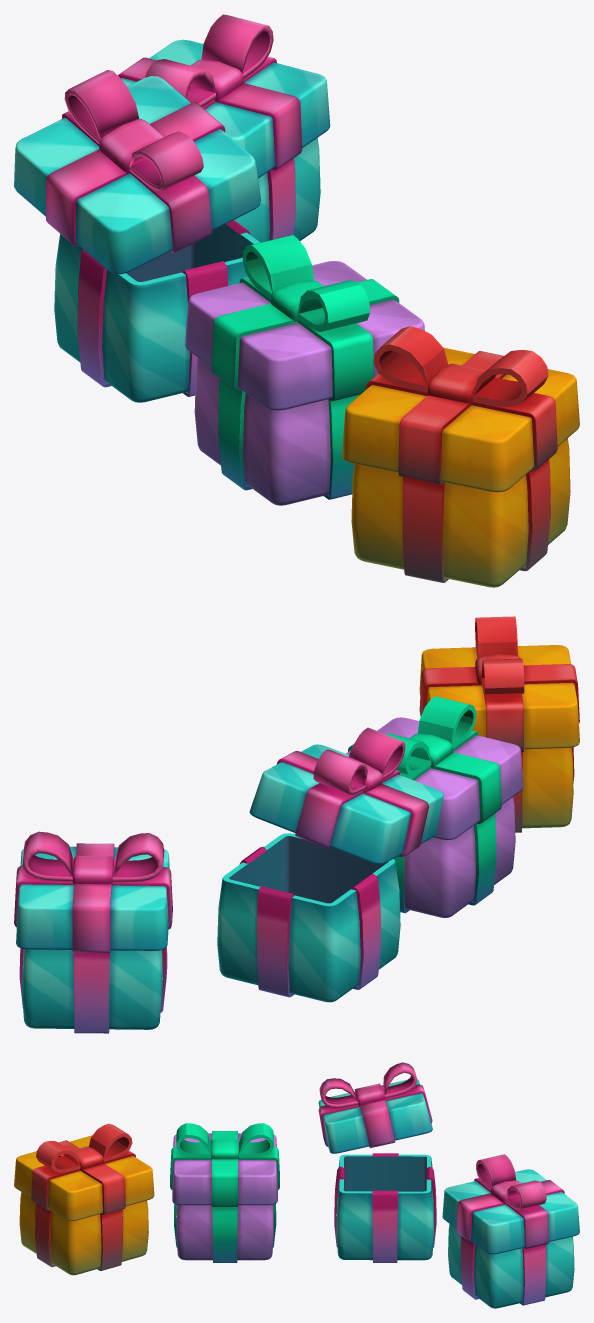
The model's file is gift-boxes.fbx.
3 views of the same model, one above another, from view 1: azimuth 30°, elevation 25°; view 2: azimuth 150°, elevation 25°; view 3: azimuth 270°, elevation 25° (orthographic). The views are drawn at different scales.
Parts seen in each view (by area): view 1: Cube.001, Cube, Cube.007, Cube.018, Cube.021, Cube.020, Cube.019, Cube.017, Cube.006, Cube.025, Cube.024, Cube.030 (+5 smaller); view 2: Cube, Cube.025, Cube.001, Cube.023, Cube.007, Cube.024, Cube.021, Cube.019, Cube.006, Cube.020, Cube.017, Cube.018 (+4 smaller); view 3: Cube, Cube.018, Cube.024, Cube.023, Cube.021, Cube.019, Cube.020, Cube.025, Cube.006, Cube.017, Cube.007, Cube.001 (+6 smaller).
Boxes of the visible parts, box(x1,y1,x2,y2) form: Cube.001: box(14, 76, 260, 274); Cube: box(54, 224, 259, 402); Cube.007: box(46, 70, 225, 253); Cube.018: box(351, 438, 570, 587); Cube.021: box(366, 326, 557, 484); Cube.020: box(211, 235, 399, 401); Cube.019: box(342, 347, 579, 492); Cube.017: box(185, 261, 424, 410); Cube.006: box(194, 358, 330, 505); Cube.025: box(118, 14, 302, 170); Cube.024: box(120, 39, 330, 178); Cube.030: box(402, 459, 550, 582); Cube: box(217, 833, 400, 1002); Cube.025: box(14, 831, 172, 952); Cube.001: box(249, 744, 443, 864); Cube.023: box(22, 949, 162, 1029); Cube.007: box(276, 727, 428, 856); Cube.024: box(16, 846, 169, 950); Cube.021: box(419, 616, 579, 751); Cube.019: box(419, 645, 579, 749); Cube.006: box(404, 797, 515, 917); Cube.020: box(348, 696, 501, 823); Cube.017: box(346, 717, 523, 839); Cube.018: box(522, 747, 573, 828); Cube: box(336, 1154, 433, 1260); Cube.018: box(19, 1192, 148, 1275); Cube.024: box(442, 1169, 579, 1254); Cube.023: box(448, 1224, 574, 1308); Cube.021: box(31, 1123, 135, 1214); Cube.019: box(14, 1135, 154, 1220); Cube.020: box(170, 1123, 279, 1206); Cube.025: box(456, 1154, 564, 1249); Cube.006: box(176, 1205, 273, 1260); Cube.017: box(172, 1133, 277, 1205); Cube.007: box(318, 1062, 432, 1148); Cube.001: box(318, 1079, 432, 1153).
Size of the model in its own units: 536 by 387 by 1204.
Materials: 4 (4 with a texture image).
